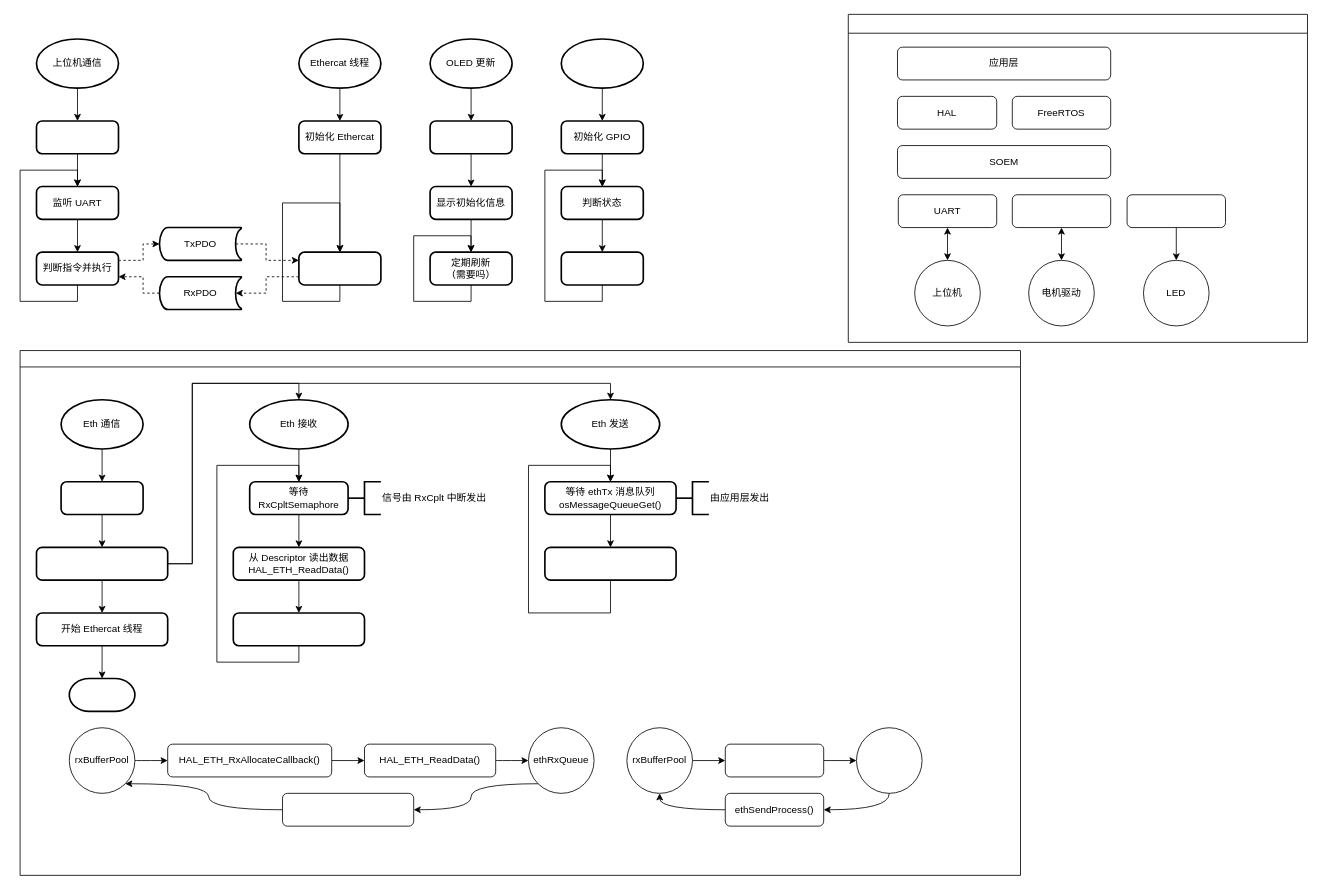
Some shapes in this 1322 by 890 pixel diagram are drawn without their labels. Each missing label, with the box of its shape:
end: (68, 677, 135, 712)
ETH: (1011, 194, 1111, 228)
ETH 模块: (19, 350, 1020, 875)
ethReceiveRequest(): (282, 793, 414, 826)
ethSendRequest(): (724, 743, 824, 777)
ethTxQueue: (856, 727, 922, 793)
GPIO: (1126, 194, 1225, 228)
LED 指示: (560, 38, 644, 89)
依据状态闪烁: (560, 251, 644, 285)
初始化 ETH MX_ETH_Init(): (60, 481, 144, 515)
初始化 OLED: (429, 120, 512, 154)
初始化 UART: (35, 120, 119, 154)
发送 Ethercat 数据帧: (298, 251, 381, 285)
发送数据 HAL_ETH_Transmit(): (544, 546, 676, 581)
将数据放入消息队列中 osMessageQueuePut(): (232, 612, 365, 646)
应用框架: (847, 14, 1307, 342)
开始接收线程和发送线程: (35, 546, 168, 581)
